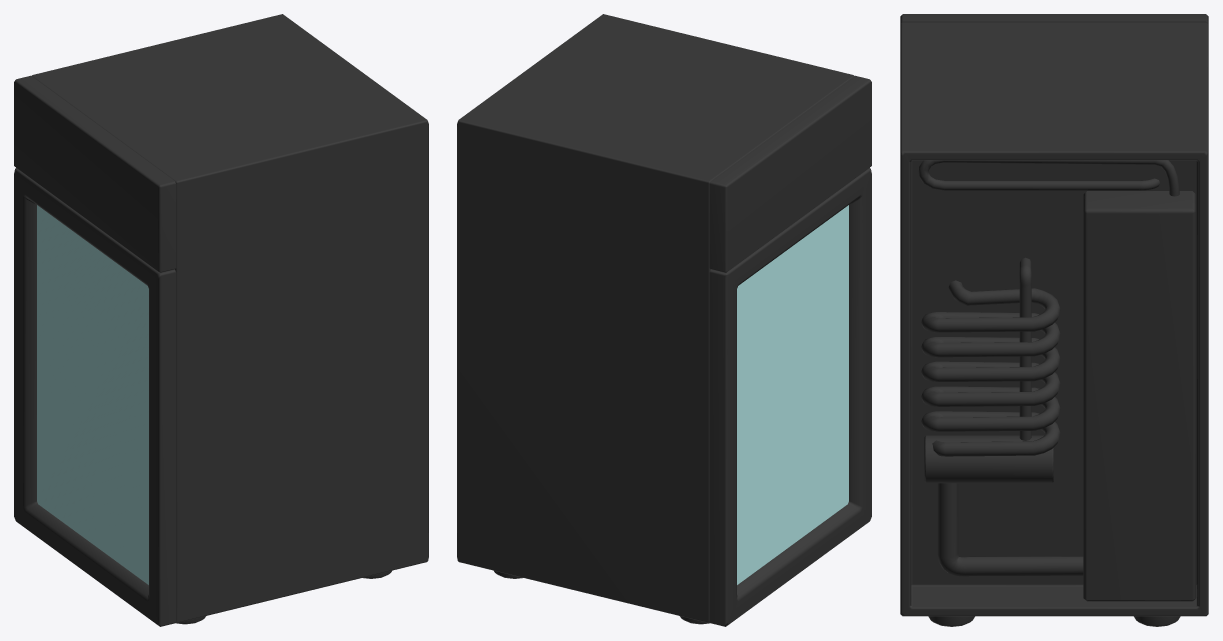
Rendered from SM_Fridge_02.fbx.
The picture shows the model from 3 angles, left to right: view 1: azimuth 30°, elevation 25°; view 2: azimuth 150°, elevation 25°; view 3: azimuth 270°, elevation 25°; orthographic projection. The views are drawn at different scales.
Visible parts, largest first — view 1: SM_Fridge_02_LOD0; view 2: SM_Fridge_02_LOD0; view 3: SM_Fridge_02_LOD0.
Boxes of the visible parts, bbox=[...] form: SM_Fridge_02_LOD0: bbox=[14, 14, 428, 626]; SM_Fridge_02_LOD0: bbox=[457, 14, 871, 626]; SM_Fridge_02_LOD0: bbox=[900, 14, 1208, 626].
Bounding box in the file's own units: 32.05 × 30 × 52.
